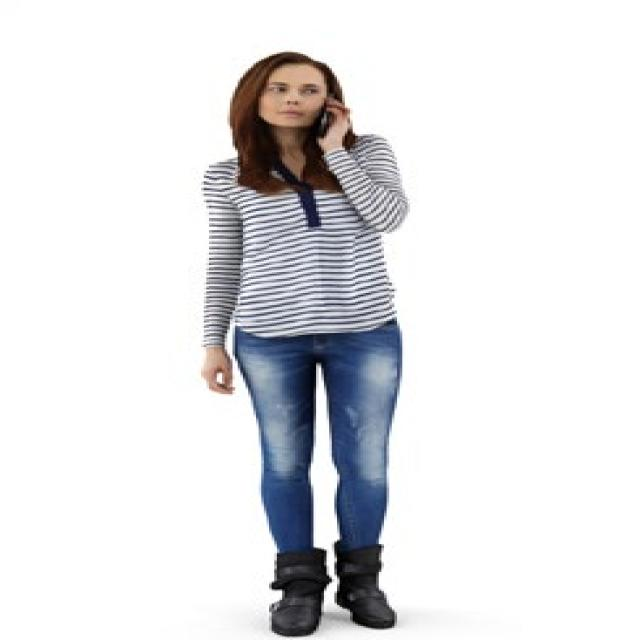standing: (189, 52, 423, 640)
